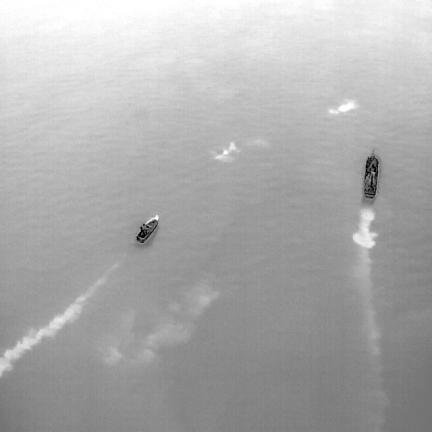flukeprints: (338, 101, 354, 111), (228, 142, 237, 152), (328, 109, 338, 114), (220, 150, 228, 155)
